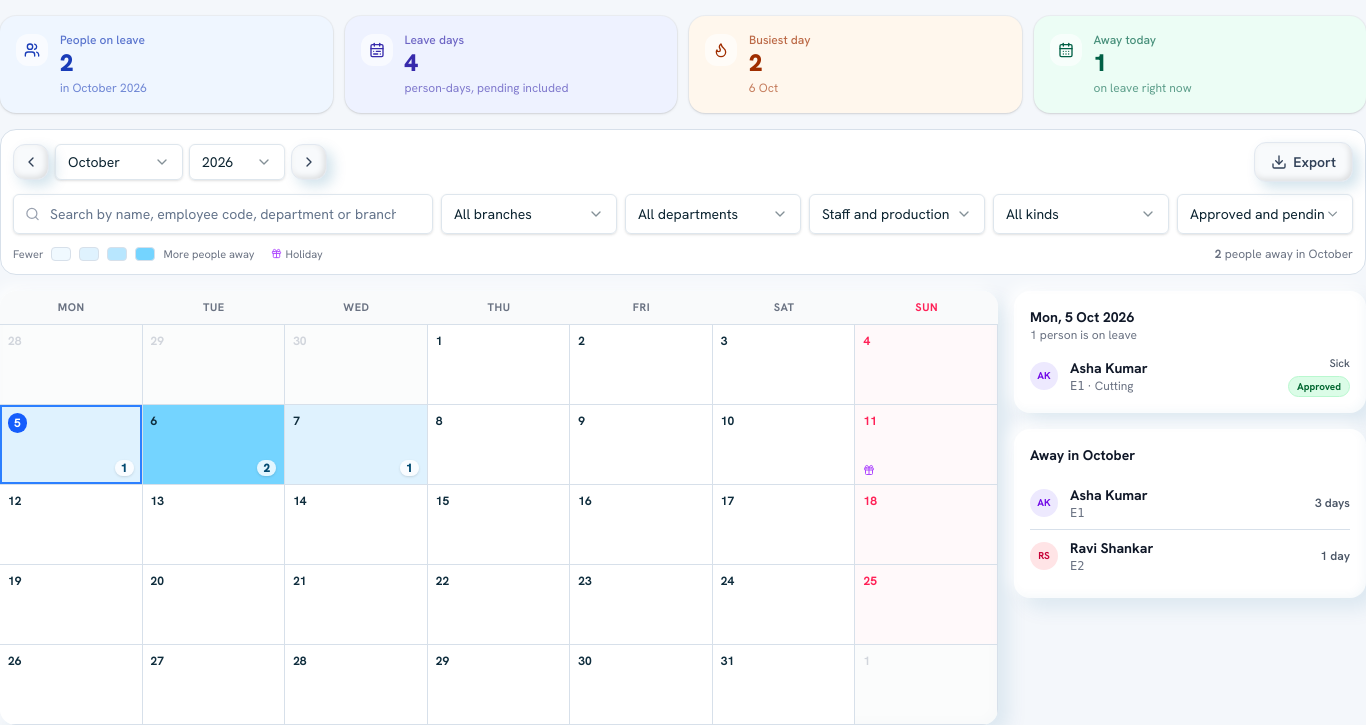
Scenario: the leave calendar › moves to another month and says nobody is away there
Click the button named "Next month" at (309, 162), box [291,144,327,180]
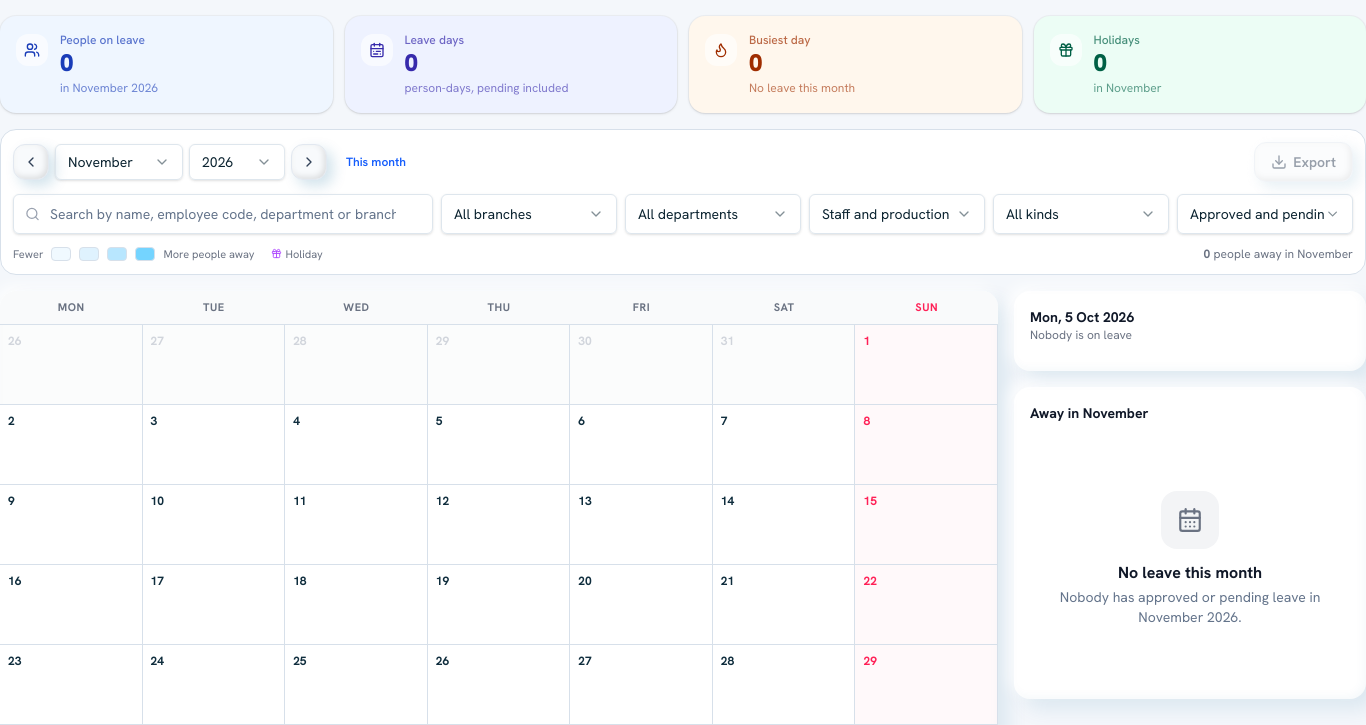
Result: the text "November" is shown at [68,152,133,172]
